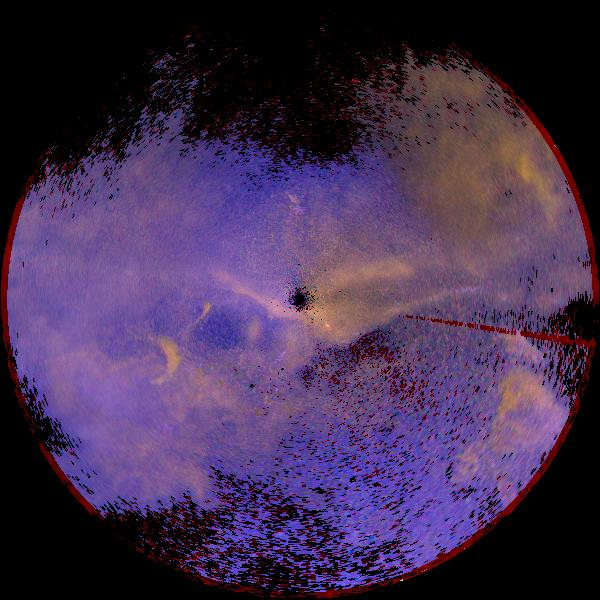roost: (130, 333, 193, 396), (162, 357, 222, 417)
